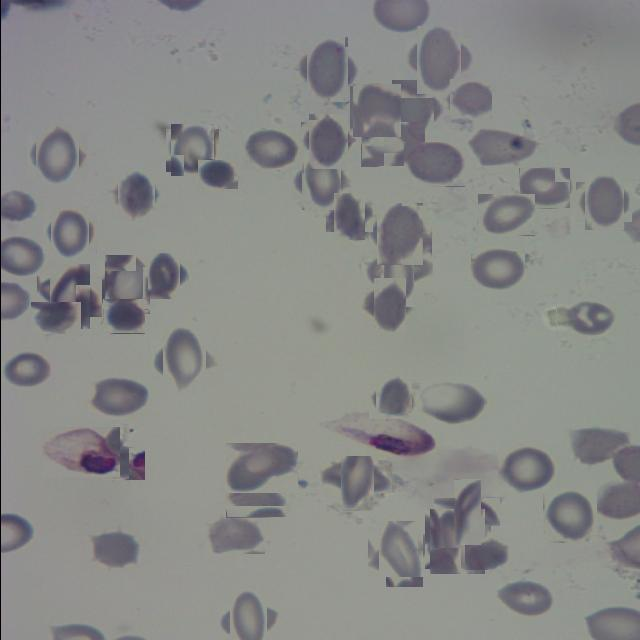difficult: (318, 413, 435, 456)
gametocyte: (40, 427, 119, 477)
leukocyte: (224, 443, 297, 493), (427, 512, 487, 572), (156, 332, 212, 388), (372, 526, 428, 582), (410, 32, 466, 88), (372, 207, 427, 261), (300, 42, 354, 96), (360, 122, 424, 167), (542, 489, 596, 542), (402, 142, 465, 187), (497, 445, 556, 493), (42, 270, 95, 323), (370, 245, 422, 298), (30, 130, 82, 182), (100, 258, 152, 310), (330, 450, 382, 502), (470, 125, 534, 167), (350, 85, 401, 136), (420, 382, 486, 421), (87, 377, 148, 419), (566, 426, 630, 466), (387, 84, 438, 134), (295, 154, 345, 204), (494, 578, 555, 618), (241, 128, 299, 170), (476, 194, 534, 236), (204, 514, 264, 554), (579, 178, 627, 226), (304, 118, 352, 166), (555, 300, 616, 337), (168, 126, 215, 174), (443, 488, 490, 536), (88, 530, 141, 571), (0, 350, 54, 390), (225, 482, 285, 518), (46, 210, 92, 256), (112, 172, 158, 218), (223, 597, 272, 640), (518, 168, 569, 209), (470, 250, 524, 287), (367, 282, 411, 326), (372, 379, 416, 423), (449, 79, 491, 118), (143, 256, 183, 296), (328, 196, 368, 236), (30, 302, 80, 334), (102, 299, 144, 334), (102, 446, 144, 480), (464, 538, 508, 570), (197, 158, 237, 188)
